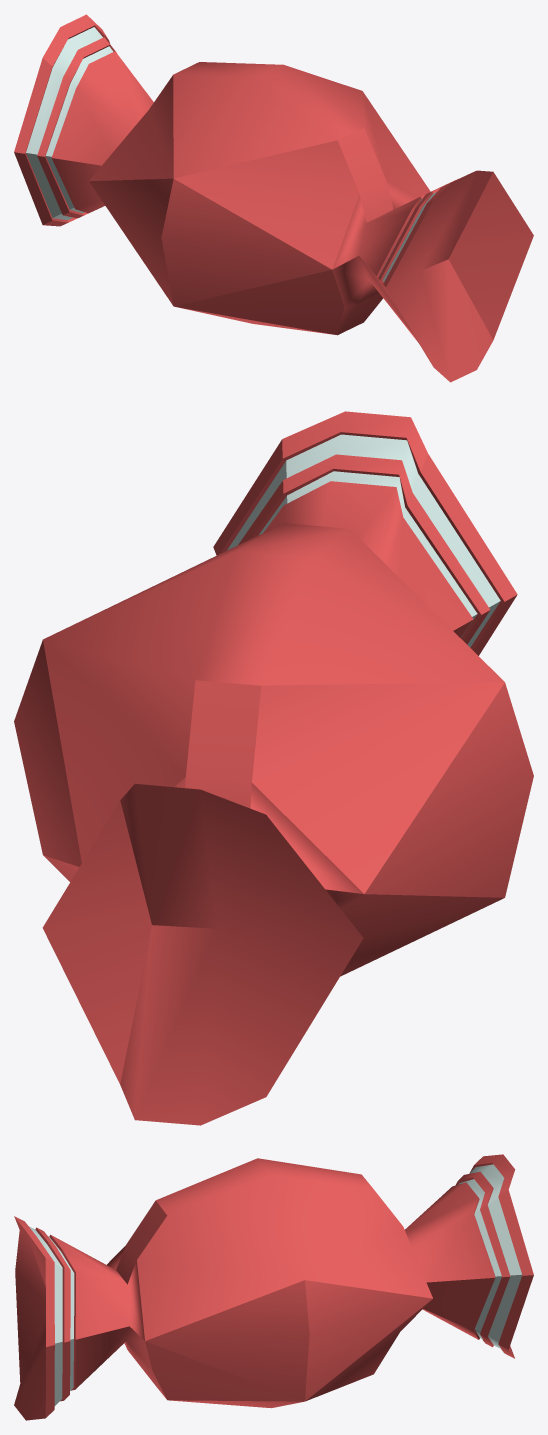
File: Dulce.fbx
3 renders of one model, top to bottom at view 1: azimuth 30°, elevation 25°; view 2: azimuth 150°, elevation 25°; view 3: azimuth 270°, elevation 25°, orthographic. The views are drawn at different scales.
Parts seen in each view (by area): view 1: pPlatonic2; view 2: pPlatonic2; view 3: pPlatonic2.
Part boxes in pixels (x1,y1,x2,y2): pPlatonic2: [14, 14, 533, 382]; pPlatonic2: [14, 411, 533, 1125]; pPlatonic2: [14, 1154, 533, 1420].
Size of the model in its own units: 2.62 by 2.01 by 4.08.
